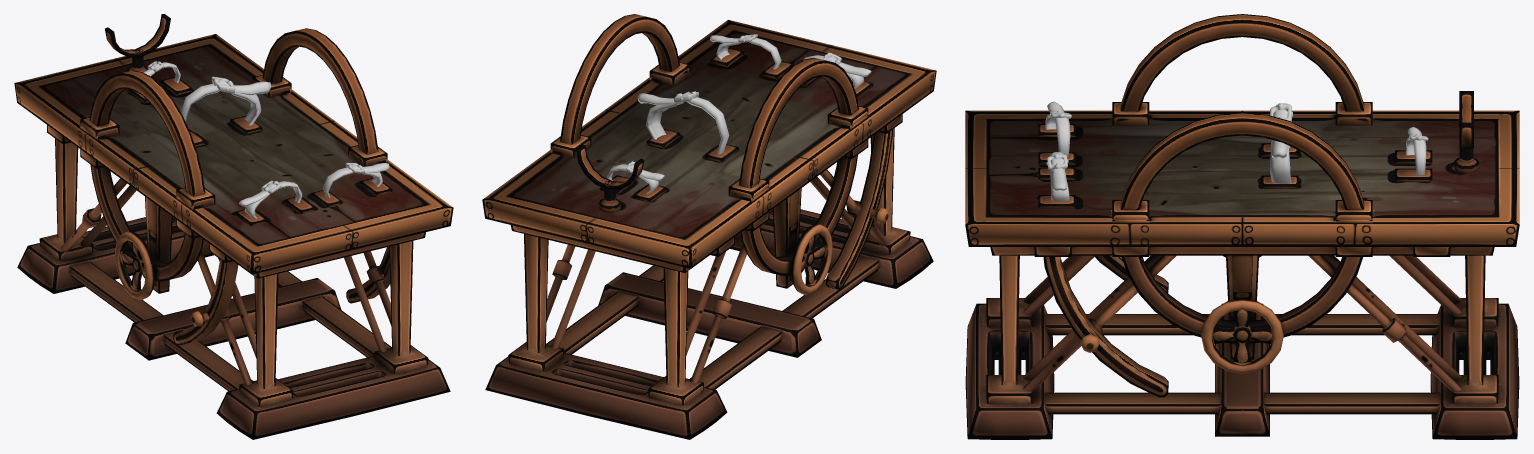
Rendered from table_op1.fbx.
The picture shows the model from 3 angles, left to right: view 1: azimuth 30°, elevation 25°; view 2: azimuth 150°, elevation 25°; view 3: azimuth 270°, elevation 25°; orthographic projection. The views are drawn at different scales.
Parts seen in each view (by area): view 1: table_op1; view 2: table_op1; view 3: table_op1.
Boxes of the visible parts, x1,y1,x2,y2 form: table_op1: (14,14,453,439); table_op1: (482,14,936,439); table_op1: (965,14,1519,439).
Bounding box in the file's own units: 230 × 281 × 446.
